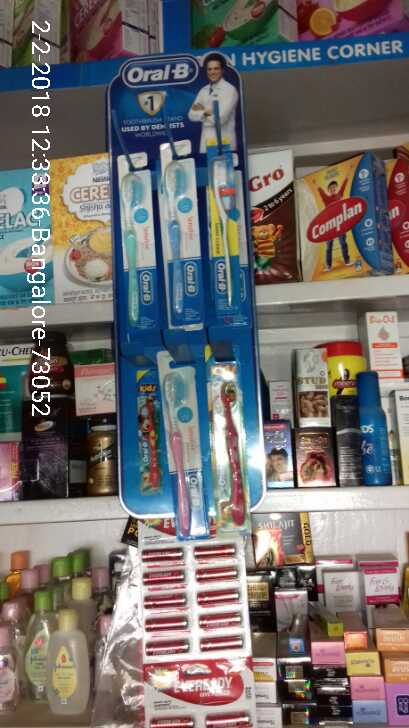oralb: (152, 140, 210, 323), (203, 340, 254, 522), (158, 347, 207, 535), (114, 158, 163, 327), (204, 136, 246, 322)
